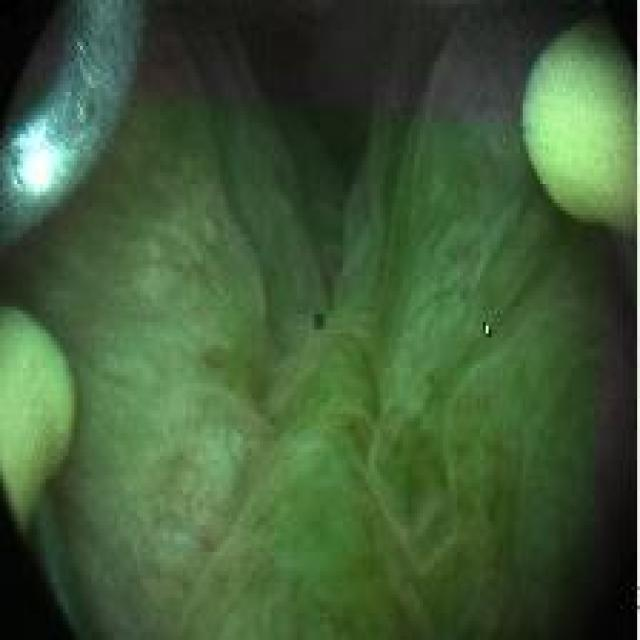color misalignment: (310, 305, 329, 337), (482, 322, 494, 337)
contrast: (239, 9, 372, 192), (533, 486, 634, 637)
instrument: (1, 5, 139, 238), (523, 12, 633, 249), (4, 303, 75, 542)
specularity: (19, 125, 61, 193)
